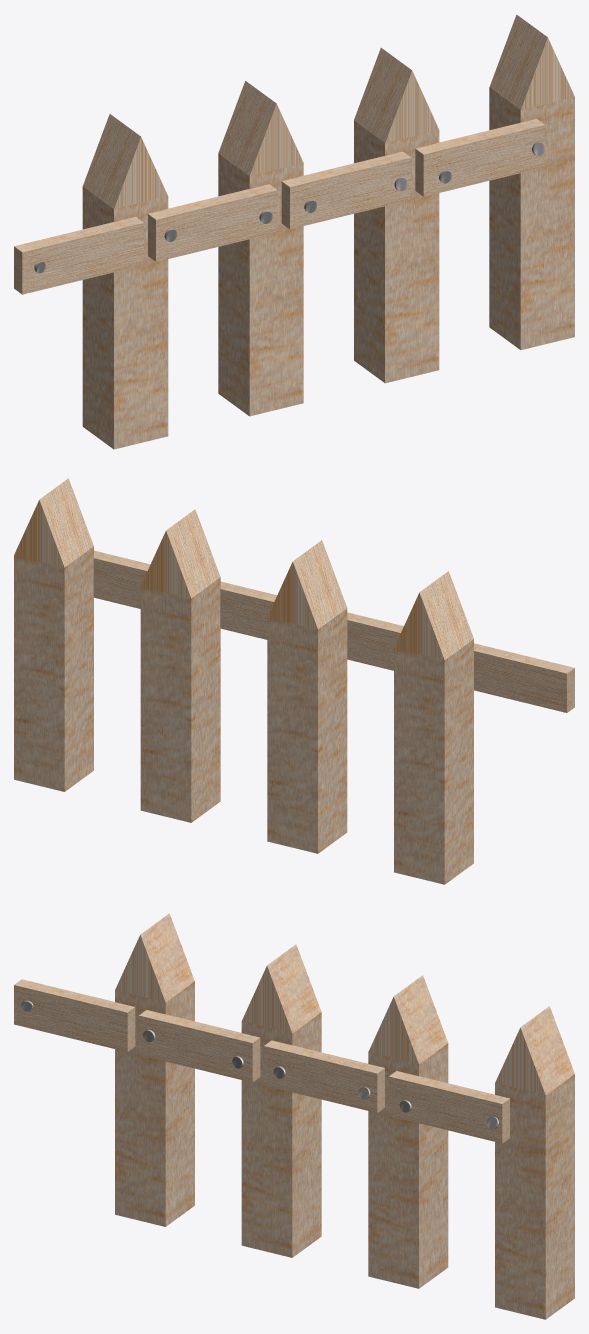
File: vallaExtremo.fbx
3 views of the same model, one above another, from view 1: azimuth 30°, elevation 25°; view 2: azimuth 150°, elevation 25°; view 3: azimuth 330°, elevation 25° (orthographic). The views are drawn at different scales.
Visible parts, largest first — view 1: valla, tabla; view 2: valla, tabla; view 3: valla, tabla.
Part boxes in pixels (x1=…): valla: x1=82, y1=14, x2=574, y2=449; tabla: x1=14, y1=119, x2=544, y2=294; valla: x1=14, y1=478, x2=473, y2=884; tabla: x1=93, y1=550, x2=574, y2=712; valla: x1=115, y1=913, x2=574, y2=1319; tabla: x1=14, y1=979, x2=509, y2=1143.
Size of the model in its own units: 727 by 379 by 97.04.
9 materials, 9 textured.
